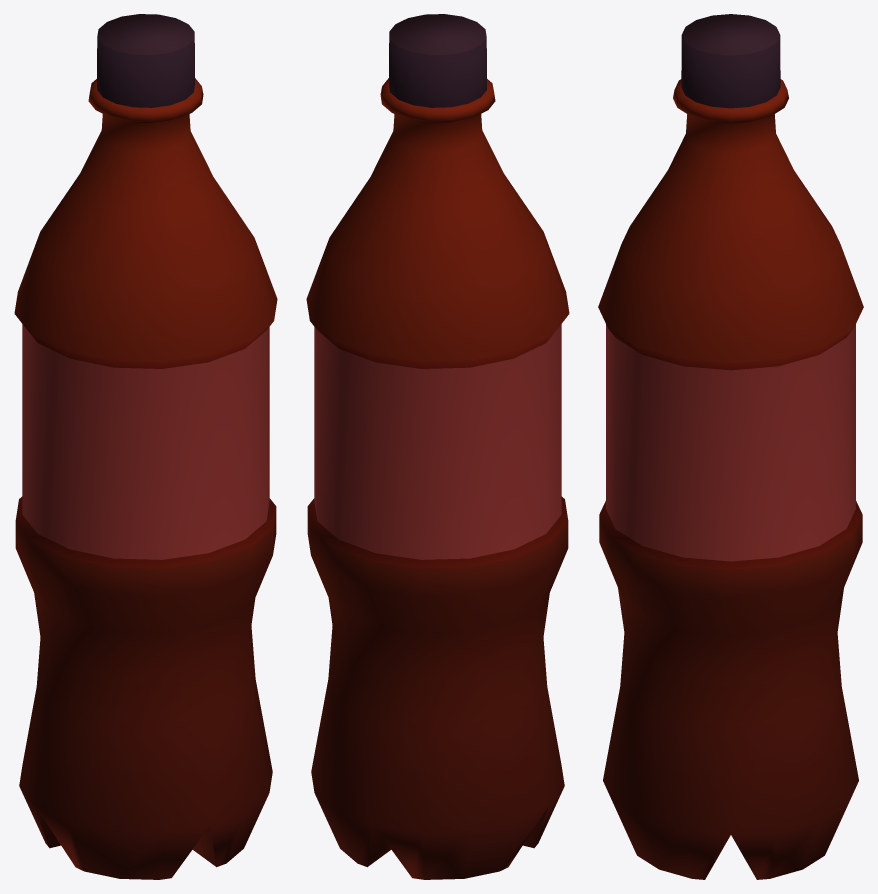
Rendered from SodaBottle_Small.fbx.
3 views of the same model, side by side, from view 1: azimuth 30°, elevation 25°; view 2: azimuth 150°, elevation 25°; view 3: azimuth 270°, elevation 25° (orthographic).
Visible parts, largest first — view 1: SodaBottle_Small; view 2: SodaBottle_Small; view 3: SodaBottle_Small.
Part boxes in pixels (x1=…): SodaBottle_Small: x1=14, y1=14, x2=277, y2=879; SodaBottle_Small: x1=306, y1=14, x2=569, y2=879; SodaBottle_Small: x1=598, y1=14, x2=863, y2=879.
Size of the model in its own units: 34.77 by 116 by 34.77.
